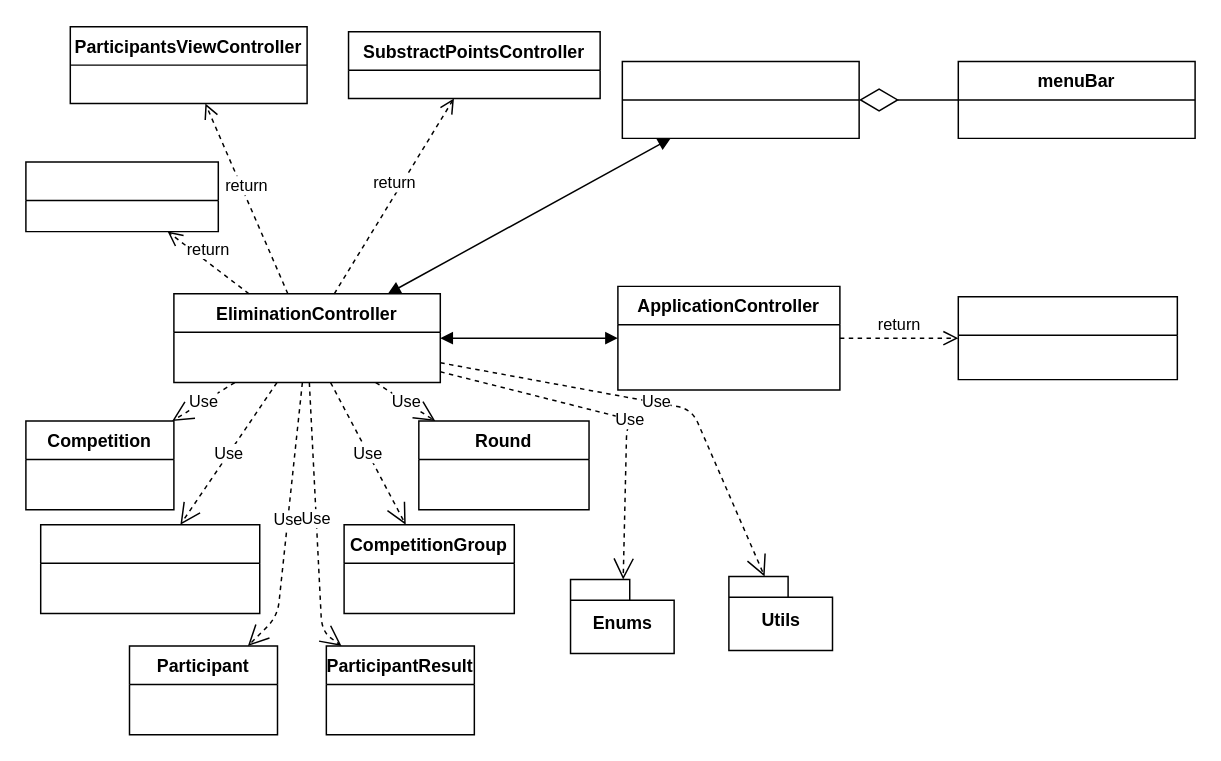
Some shapes in this 1221 by 761 pixel diagram are drawn without their labels. Each missing label, with the box of its shape:
AddInjuryController: (957, 295, 1177, 380)
AddPointsController: (24, 161, 218, 232)
elimination: (621, 60, 859, 138)
WeaponCompetition: (39, 523, 260, 613)
